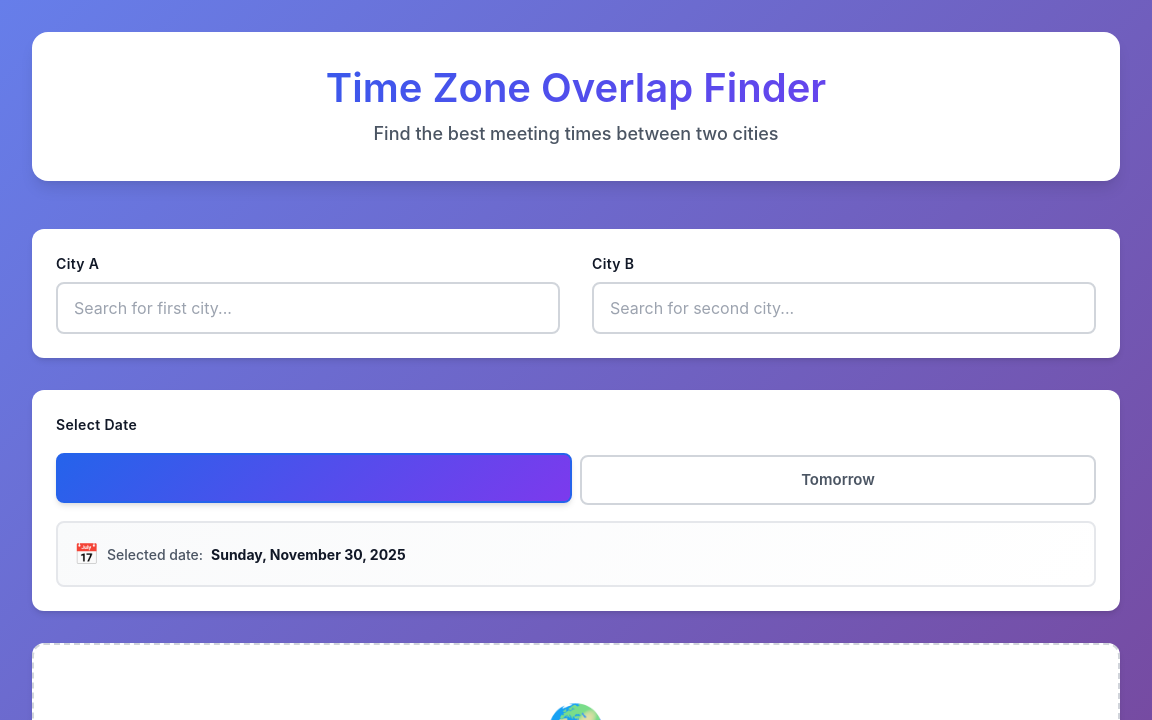
App Integration Tests › should display meeting suggestions after selecting two cities
Type in first city
In the field labelled "City A": [308, 308] box [56, 282, 560, 334], type "London"
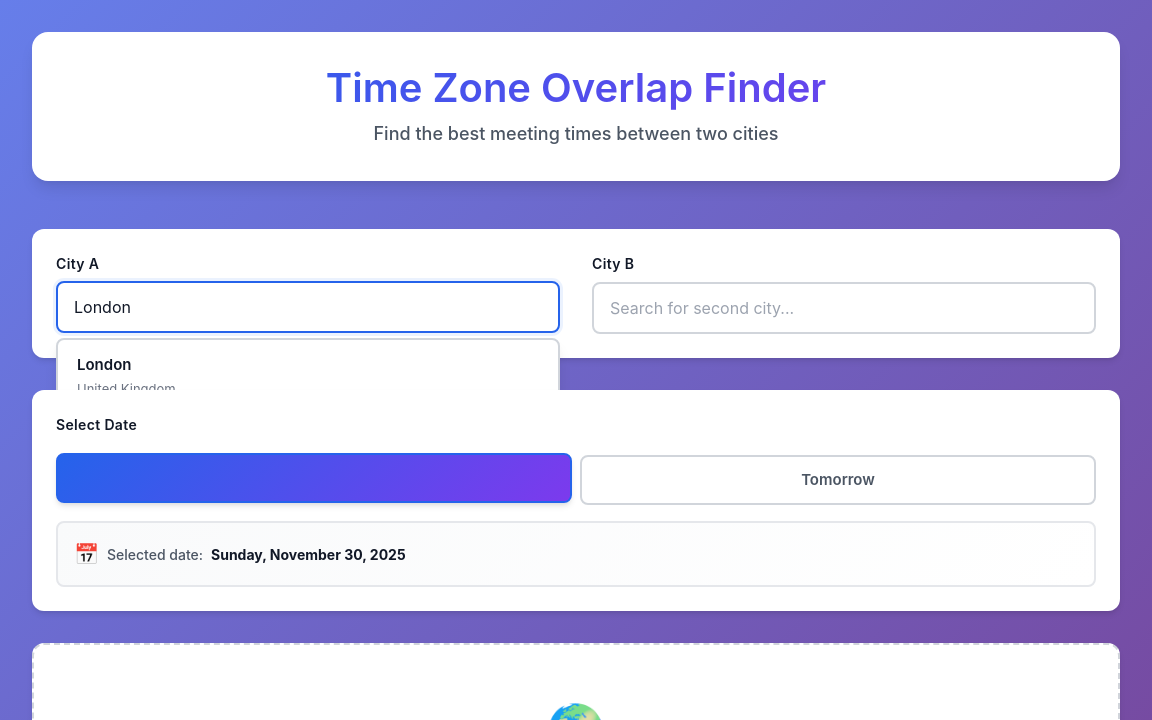
Expected: the option "London United Kingdom" is shown
Click the first suggestion
Click the option "London United Kingdom": [126, 376] box [77, 355, 176, 397]
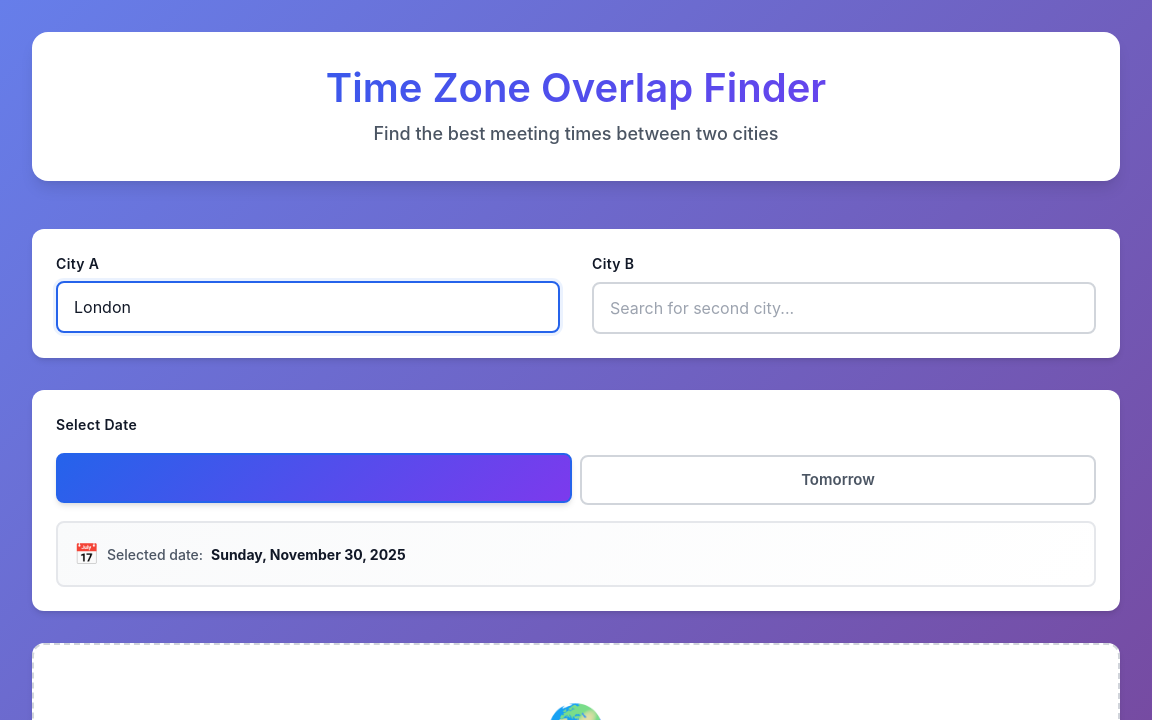
Type in second city
In the field labelled "City B": [844, 308] box [592, 282, 1096, 334], type "New York"
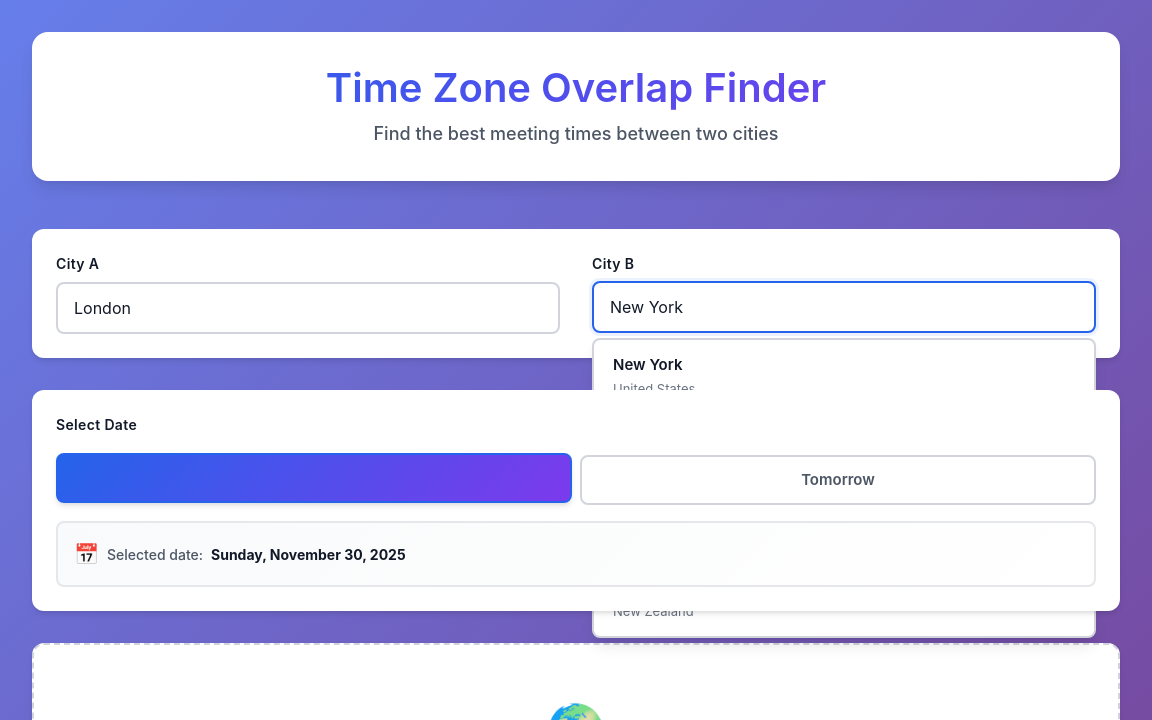
Expected: the option "New York United States" is shown
Click the option "New York United States": [654, 376] box [613, 355, 695, 397]
(page scrolled)
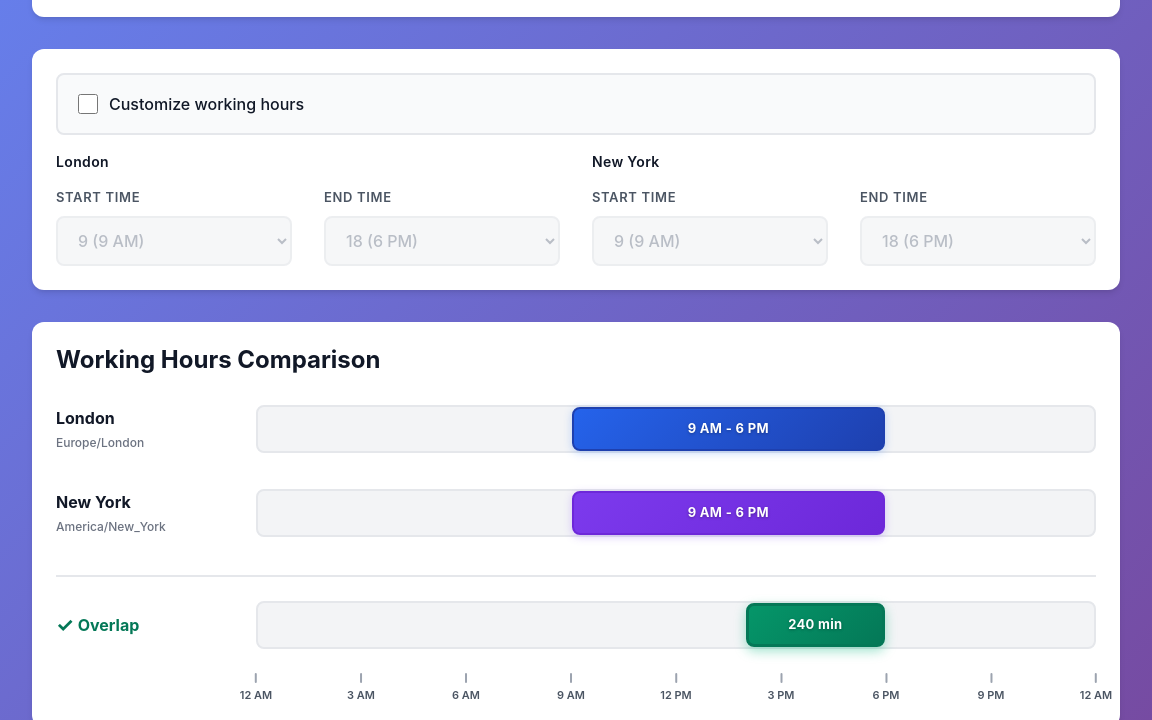
Expected: the heading "Working Hours Comparison" is shown, [56, 345, 380, 374]
